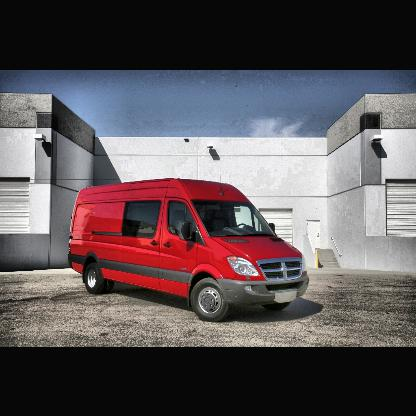Dodge Sprinter Cargo Van 2009: (68, 178, 310, 322)
